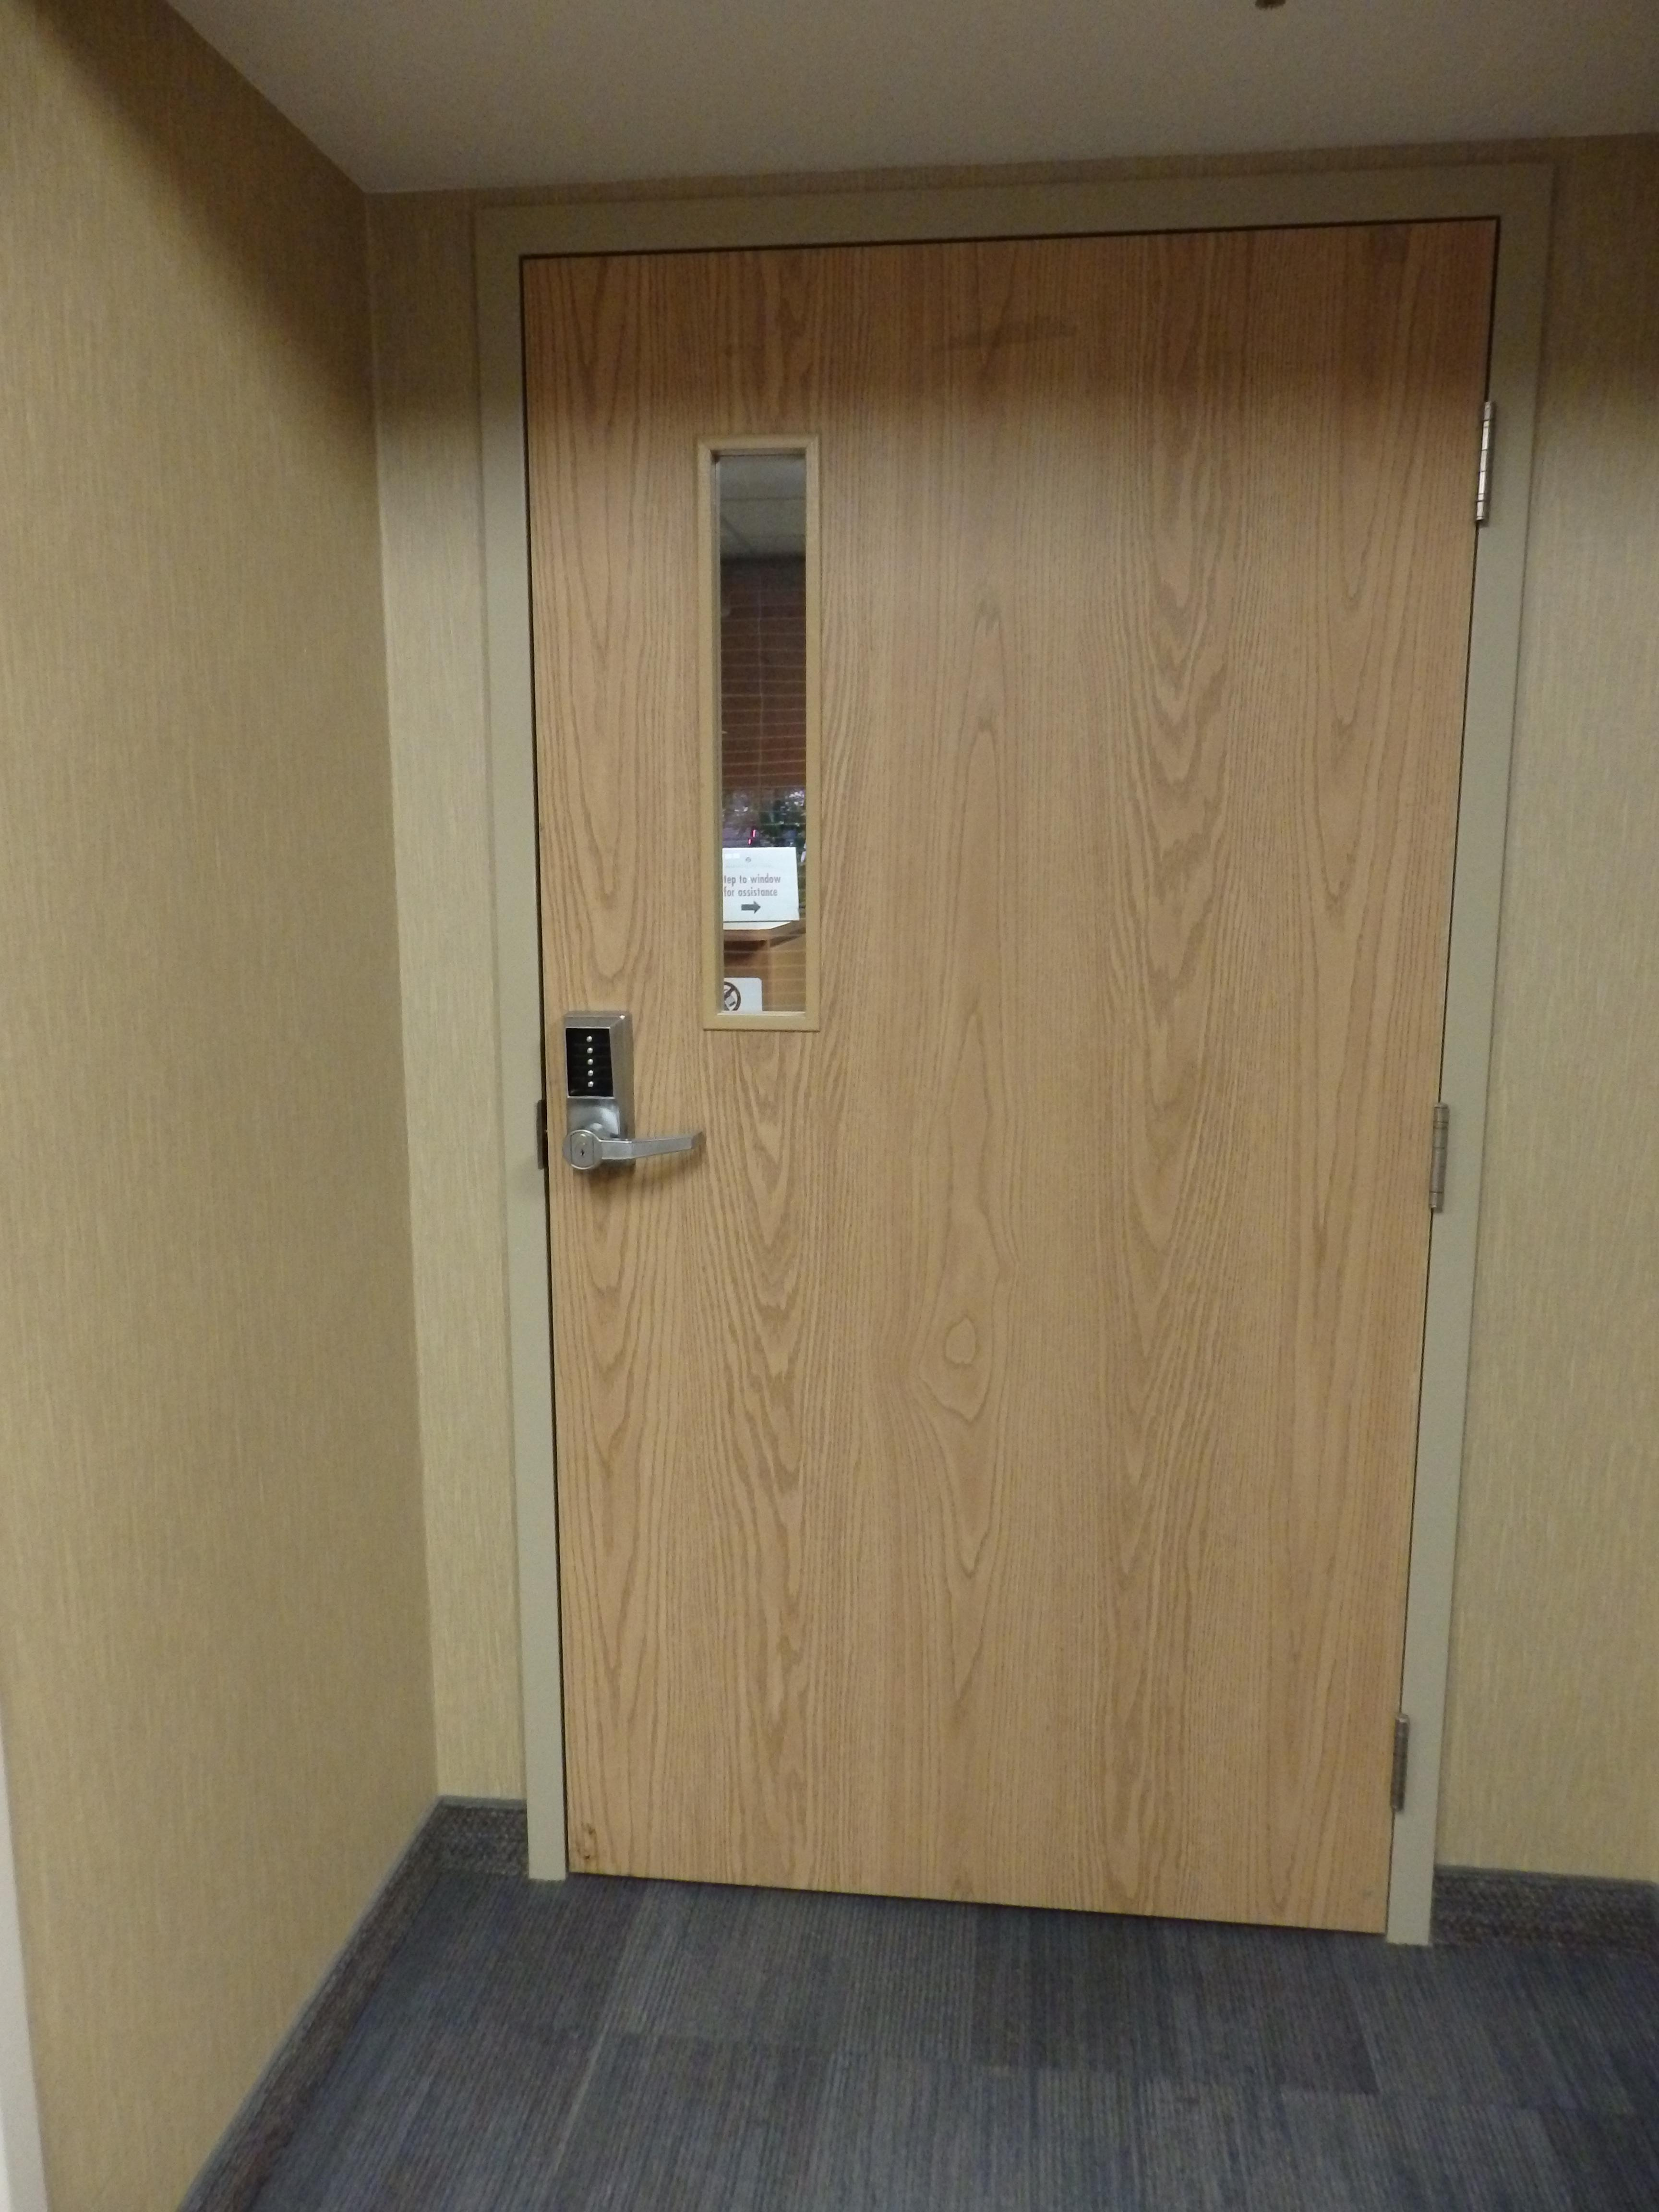door: (479, 169, 1561, 1951)
